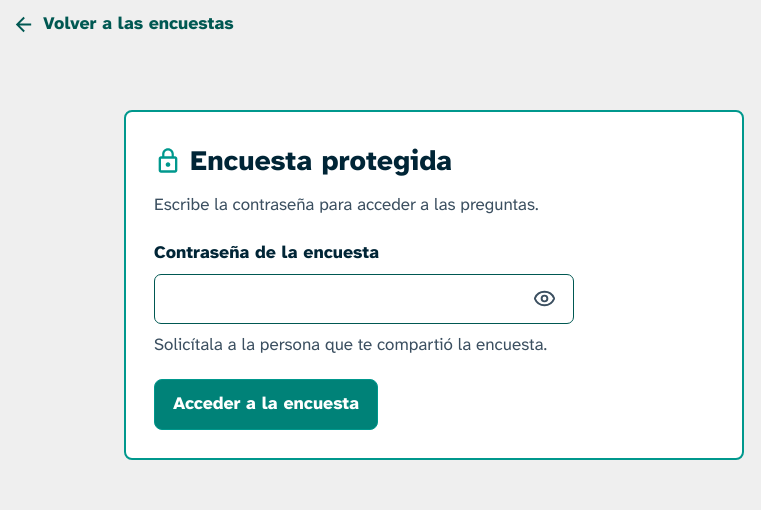
Test: PublicSurveyPage › solicita la contraseña cuando la encuesta está protegida
Check: the heading "Encuesta protegida" is shown, box [154, 142, 452, 179]
Click the button "Acceder a la encuesta".
click(266, 405)  # box [154, 379, 378, 430]
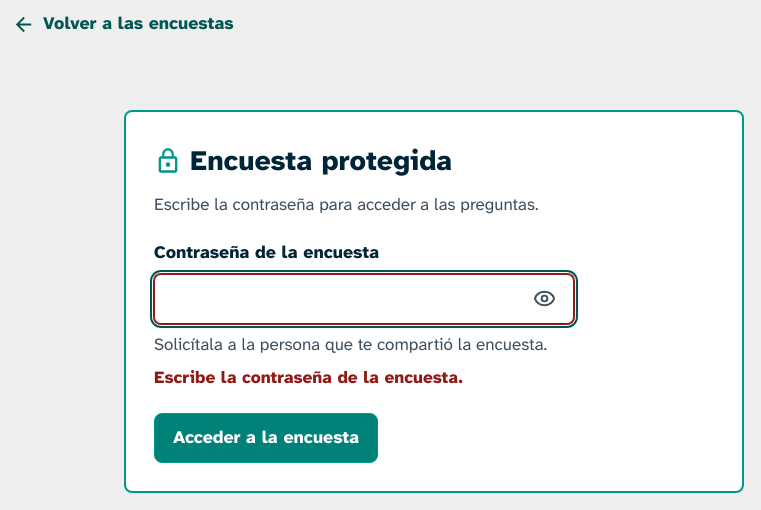
Check: the text "Escribe la contraseña de la encuesta." is shown, box [154, 366, 463, 388]
